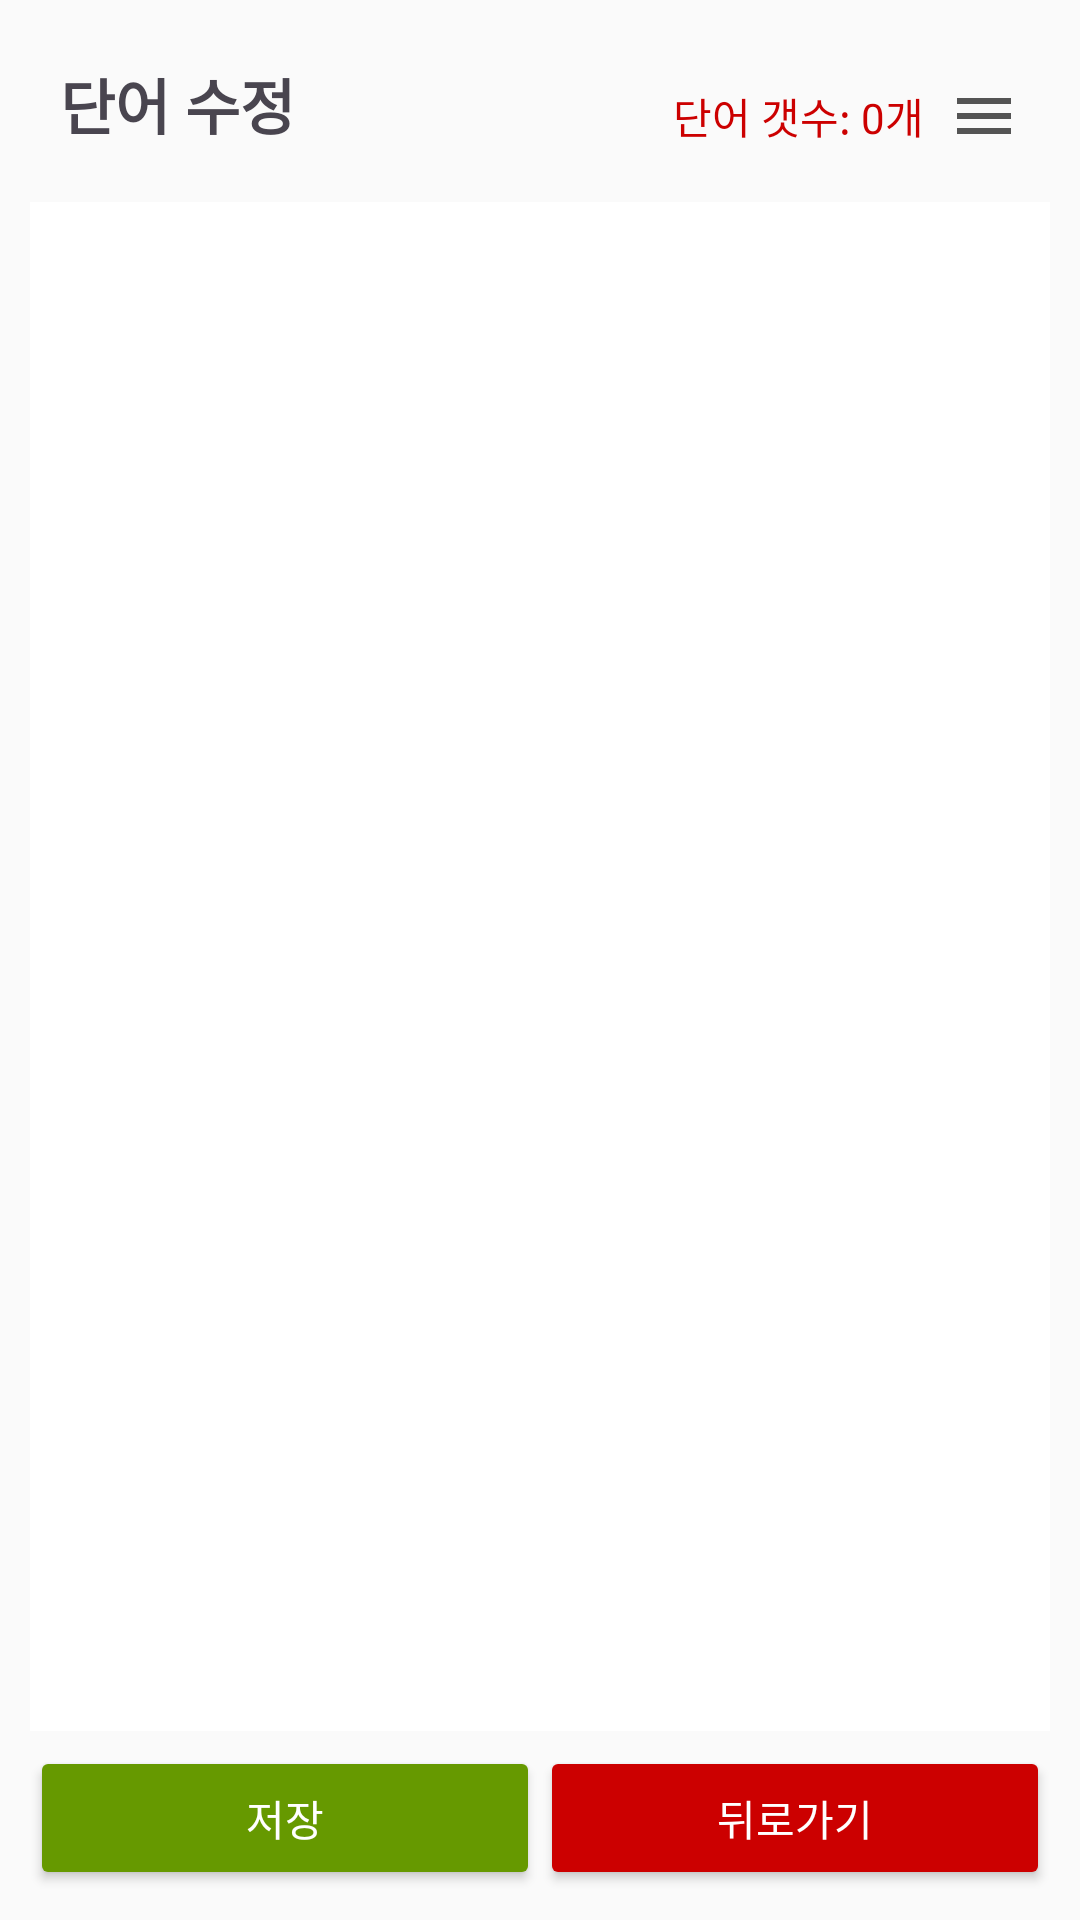

Locate icon controls on the screen. Image size 1080 x 1920, boxes as {"x1": x1, "y1": y1, "x2": x2, "y2": y2}.
메뉴: {"x1": 957, "y1": 98, "x2": 1011, "y2": 134}
